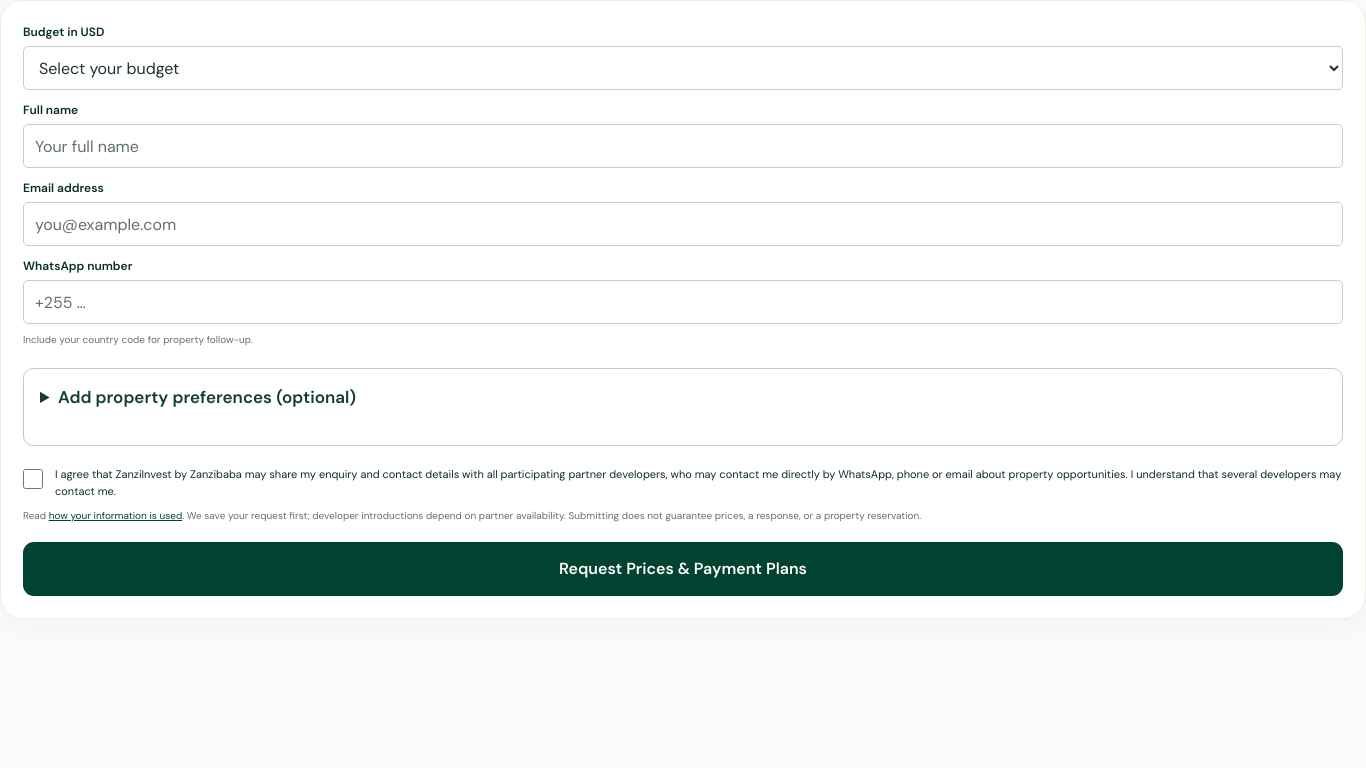
Test case: customer enquiry form › saves a short enquiry without opening optional preferences and measures only confirmed leads
The image size is (1366, 768).
Type "Test Buyer" into the field labelled "Full name".
click(683, 146); type("Test Buyer")  # box [23,124,1343,168]
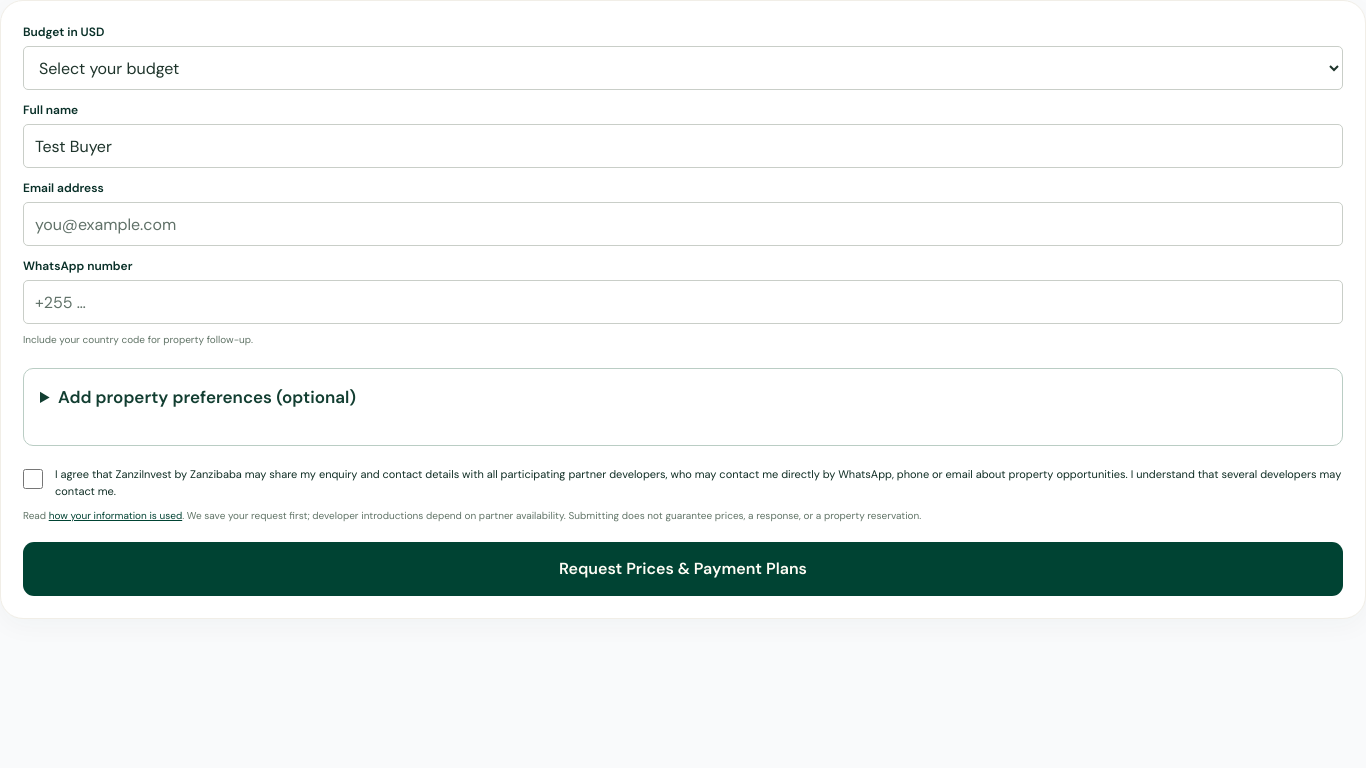
Type "buyer@example.test" into the field labelled "Email address".
click(683, 224); type("buyer@example.test")  # box [23,202,1343,246]
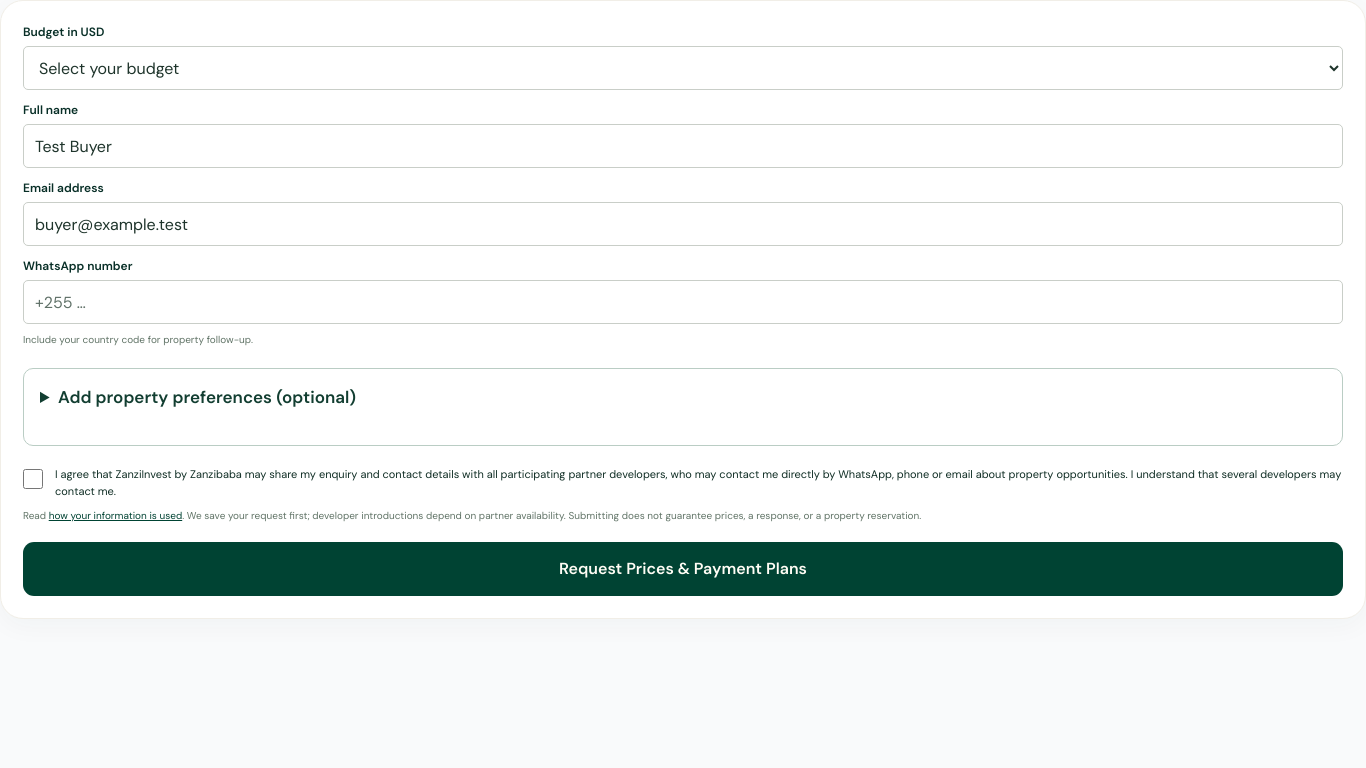
Type "+255 716 000 000" into the field labelled "WhatsApp number".
click(683, 302); type("+255 716 000 000")  # box [23,280,1343,324]
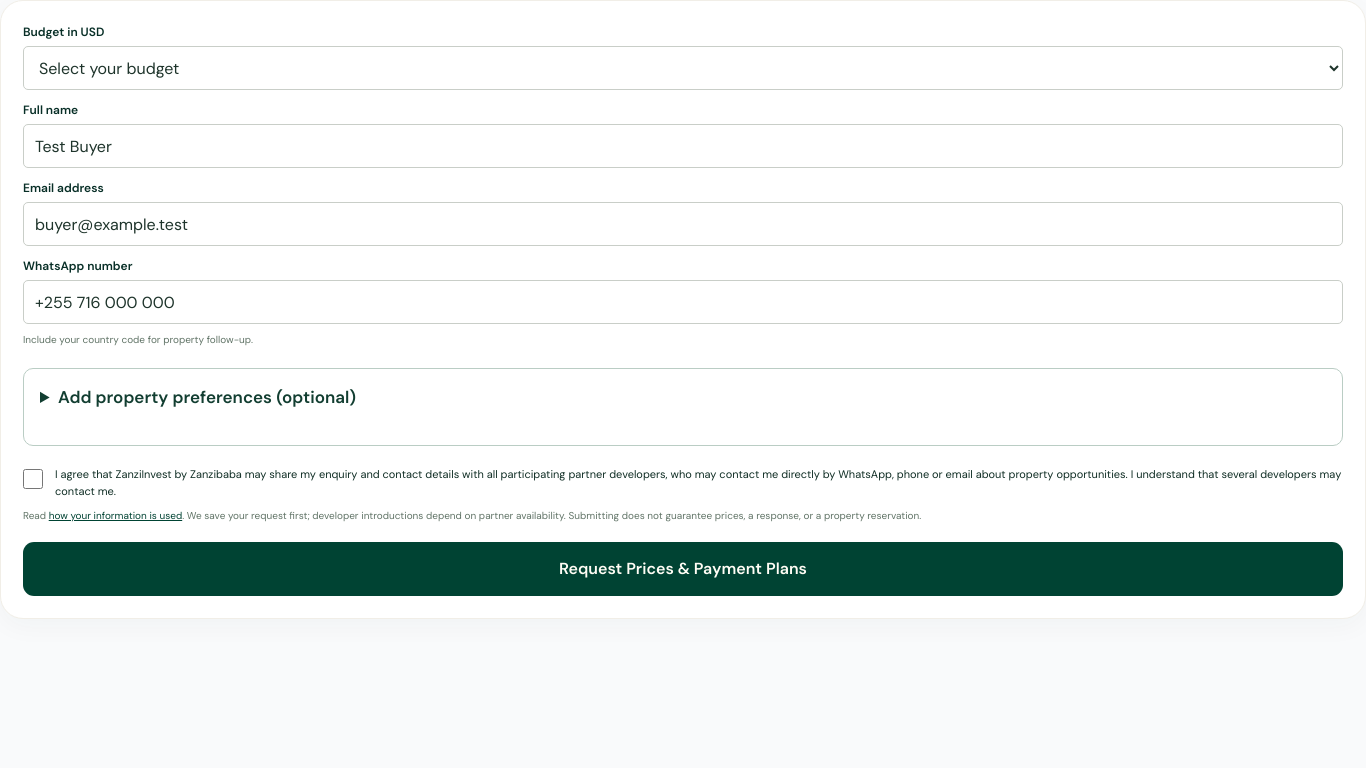
Select "$100,000–$150,000" in the dropdown labelled "Budget in USD" at point(683, 68), box [23,46,1343,90]
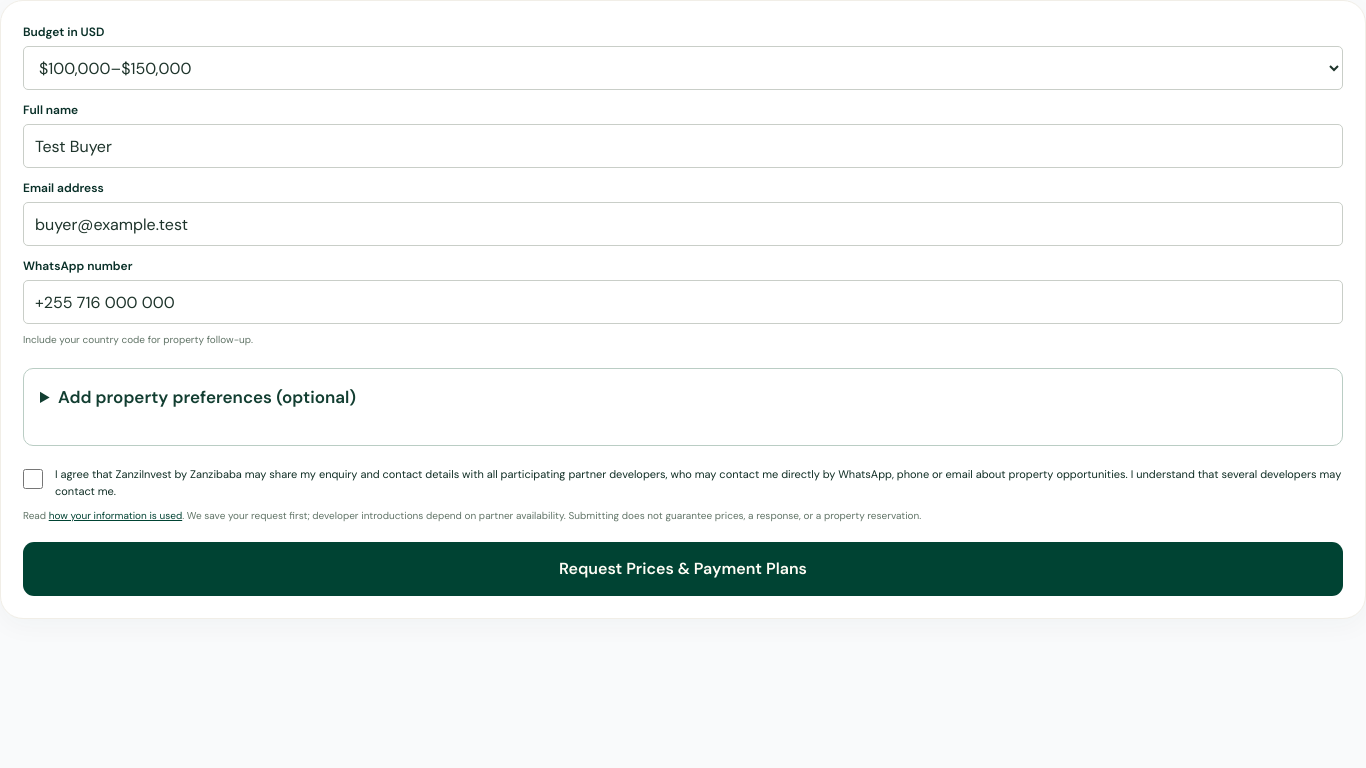
Click the checkbox.
click(33, 479)  # box [23,469,43,489]
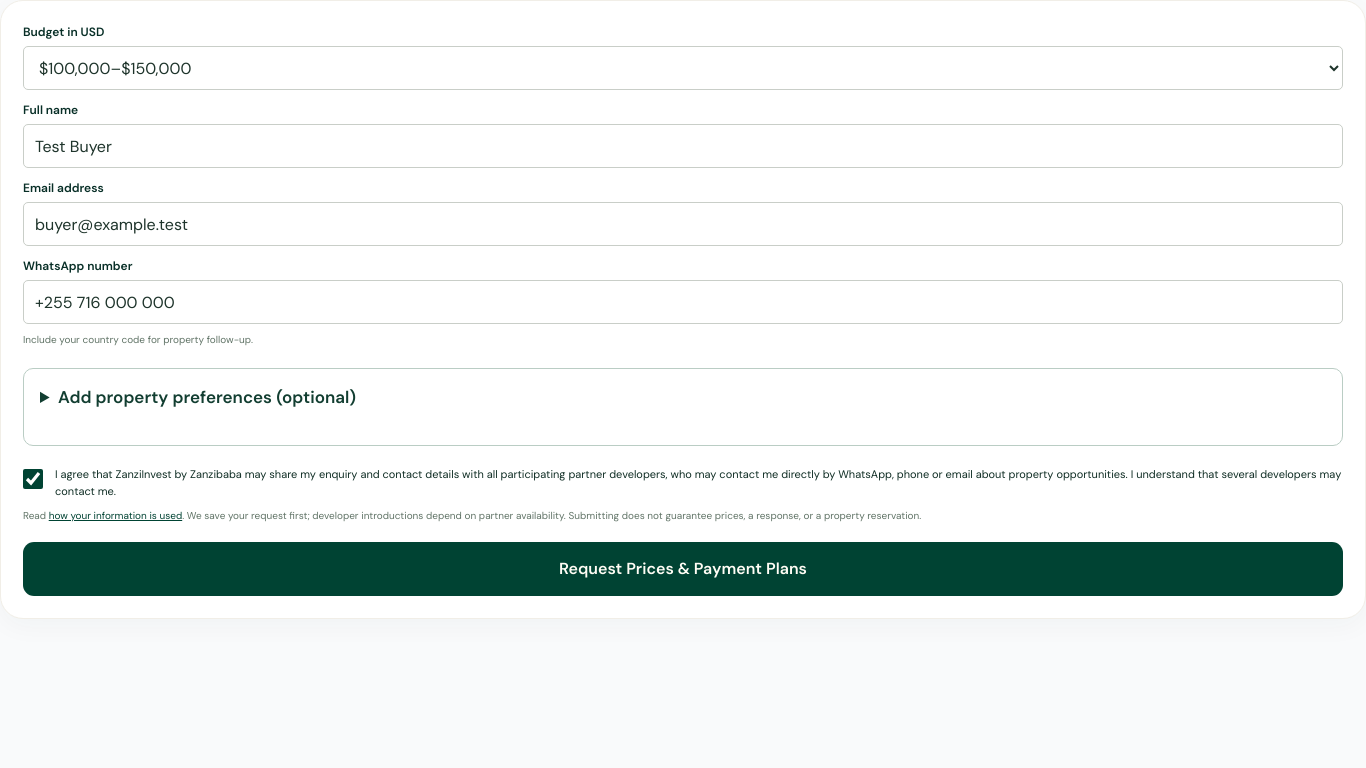
Submit the form named "Property preferences"
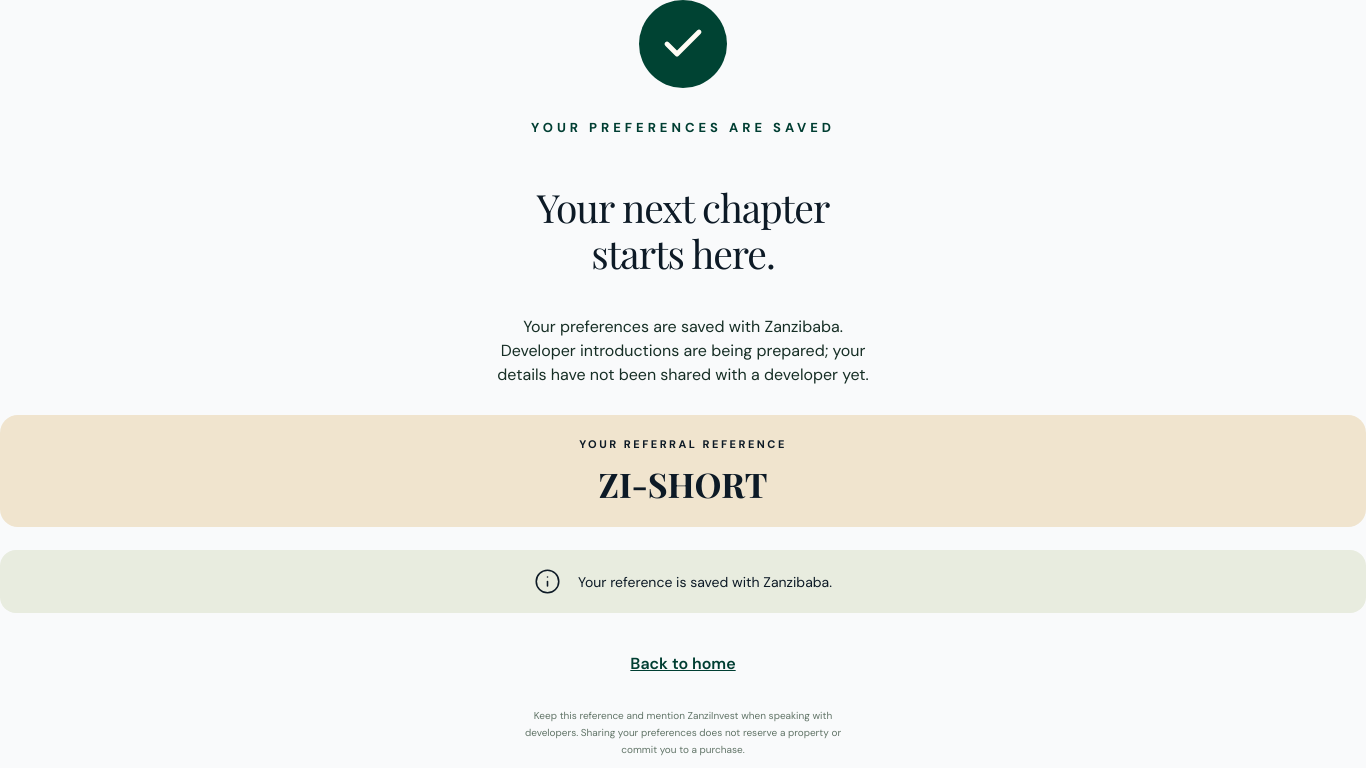
Now the text "ZI-SHORT" is shown, box [599,461,767,507]
Now the text "your details have not been shared with a developer yet" is shown, box [497,316,869,385]
